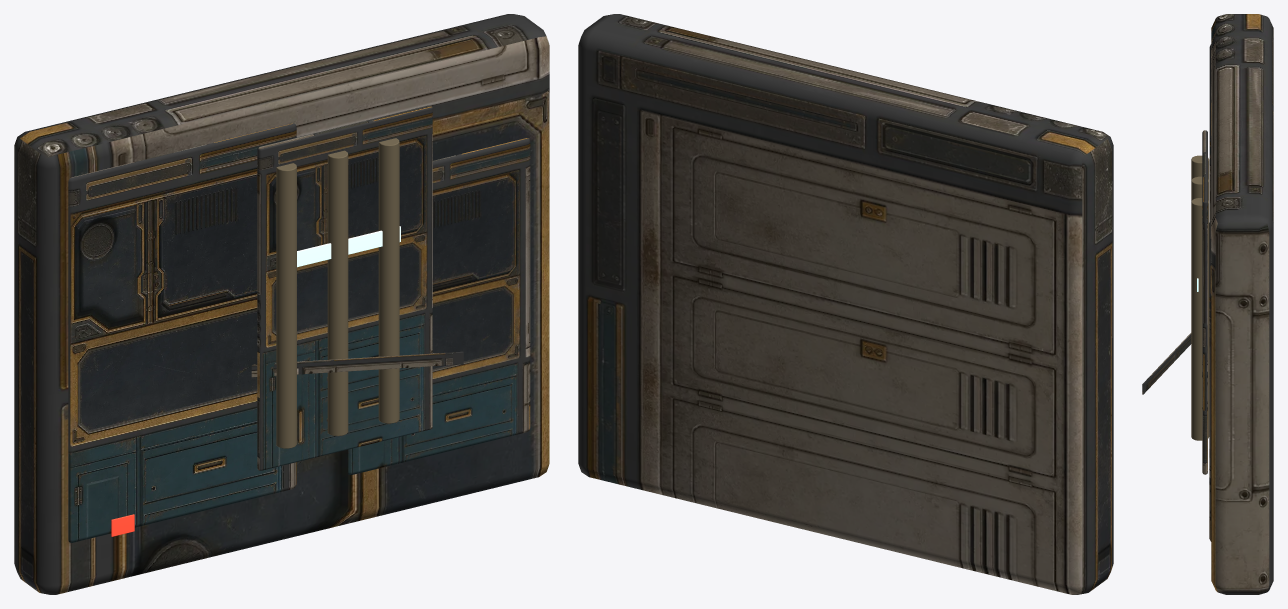
Rendered from hp_room_residential_service_wall_rupture.glb.
3 renders of one model, left to right at view 1: azimuth 30°, elevation 25°; view 2: azimuth 150°, elevation 25°; view 3: azimuth 270°, elevation 25°, orthographic. The views are drawn at different scales.
Parts seen in each view (by area): view 1: exposed_service_cavity, left_residential_skin_plate, vertical_exposed_pipe_0, cold_cyan_crack_light; view 2: exposed_service_cavity; view 3: exposed_service_cavity, vertical_exposed_pipe_0, left_residential_skin_plate.
Boxes of the visible parts, box(x1,y1,x2,y2) form: exposed_service_cavity: box(14, 14, 549, 594); left_residential_skin_plate: box(68, 123, 530, 542); vertical_exposed_pipe_0: box(276, 138, 399, 448); cold_cyan_crack_light: box(297, 226, 400, 267); exposed_service_cavity: box(578, 14, 1113, 594); exposed_service_cavity: box(1142, 14, 1273, 594); vertical_exposed_pipe_0: box(1191, 155, 1209, 440); left_residential_skin_plate: box(1209, 44, 1211, 541).
Size of the model in its own units: 2.62 by 2.19 by 0.6843.
5 materials, 2 textured.
